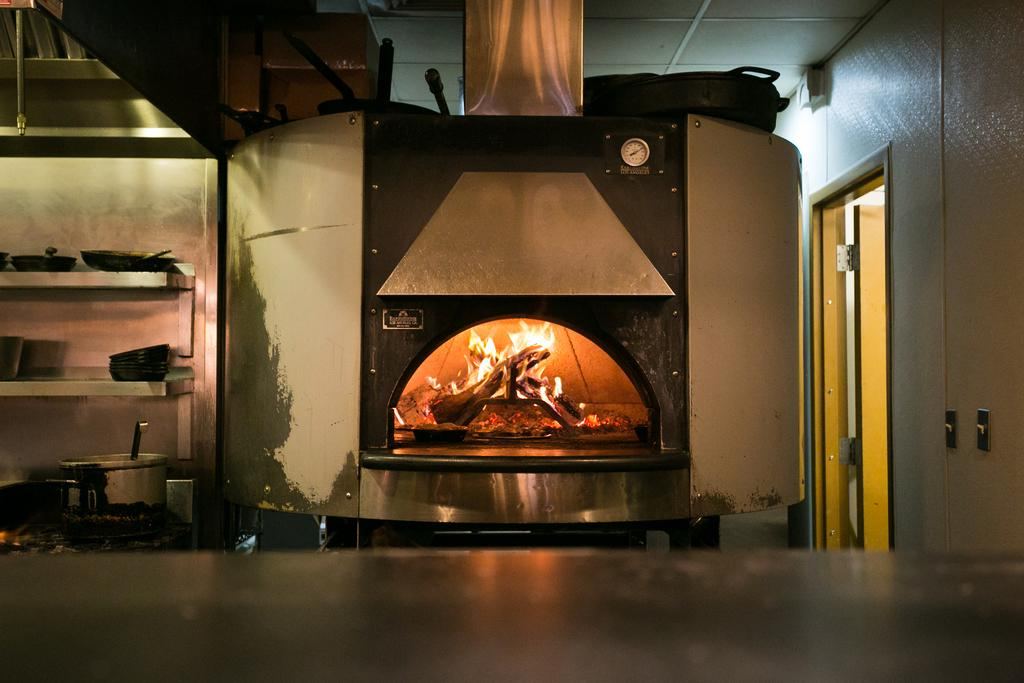Fire: (436, 324, 568, 428)
